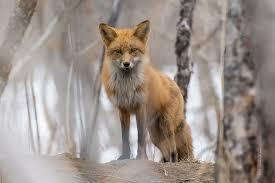Non_Gorille: (83, 8, 212, 170)
